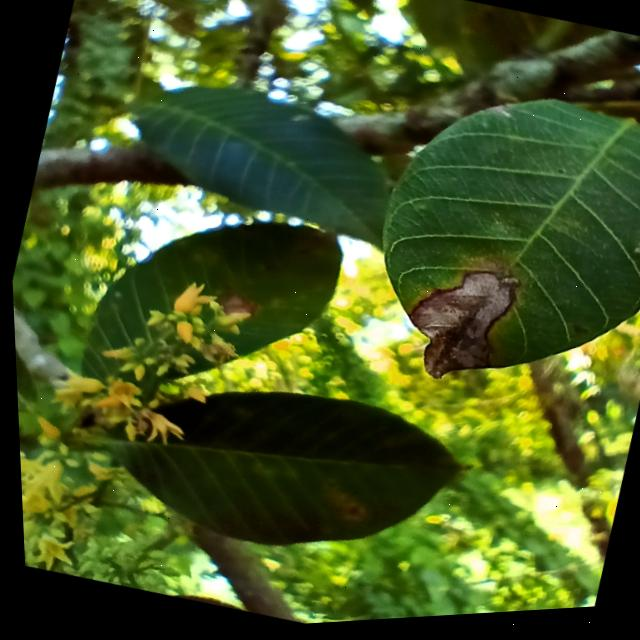Leaf-Blight: (389, 257, 521, 401)
